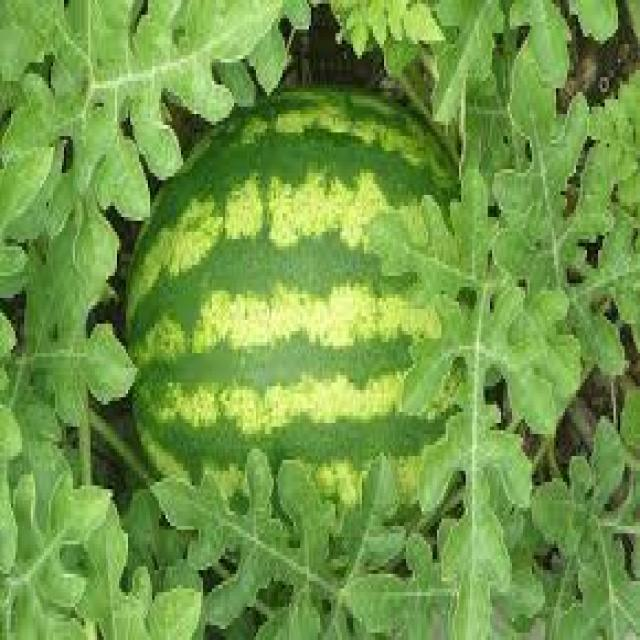watermelon: (121, 81, 470, 515)
